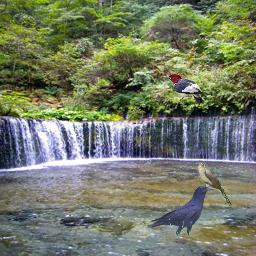Crow: (146, 185, 214, 240)
Cuckoo: (198, 162, 232, 206)
Woodpecker: (161, 74, 205, 105)
